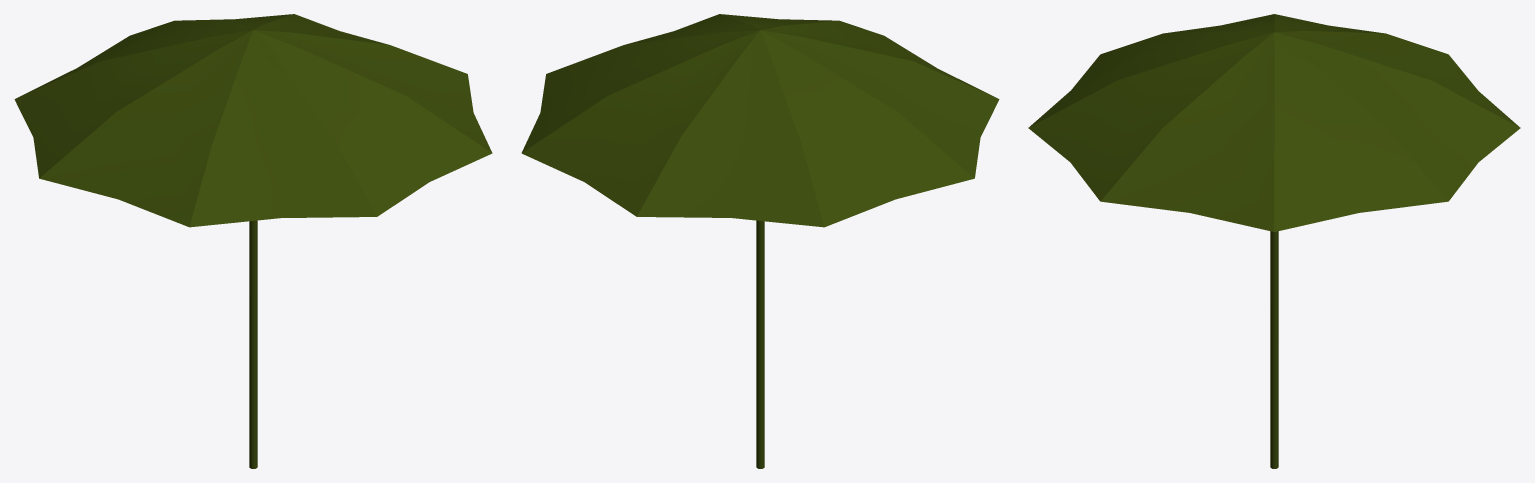
File: Umbrella1_M.fbx
The picture shows the model from 3 angles, left to right: view 1: azimuth 30°, elevation 25°; view 2: azimuth 150°, elevation 25°; view 3: azimuth 270°, elevation 25°; orthographic projection.
Parts seen in each view (by area): view 1: Umbrella1; view 2: Umbrella1; view 3: Umbrella1.
Part boxes in pixels (x1=…): Umbrella1: x1=14, y1=14, x2=492, y2=468; Umbrella1: x1=521, y1=14, x2=999, y2=468; Umbrella1: x1=1028, y1=14, x2=1520, y2=468.
Size of the model in its own units: 2 by 1.95 by 2.
